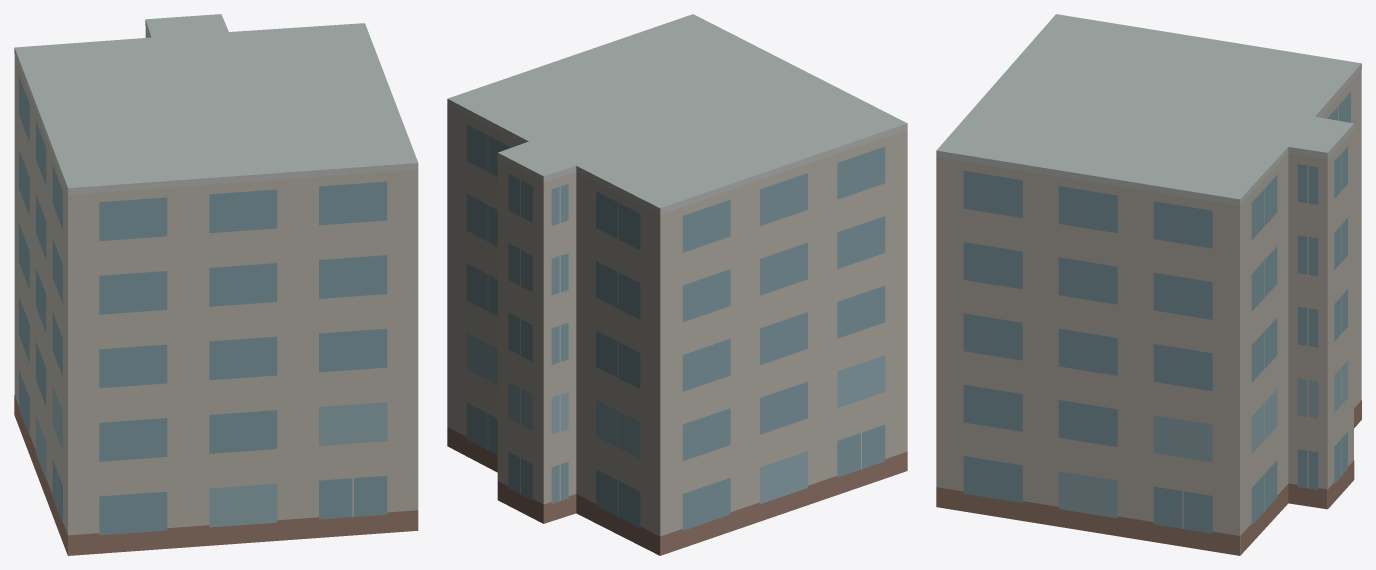
The model's file is survey-upis-32528417.glb.
The picture shows the model from 3 angles, left to right: view 1: azimuth 30°, elevation 25°; view 2: azimuth 150°, elevation 25°; view 3: azimuth 270°, elevation 25°; orthographic projection. The views are drawn at different scales.
Parts seen in each view (by area): view 1: survey-upis-32528417.tmp; view 2: survey-upis-32528417.tmp; view 3: survey-upis-32528417.tmp.
Boxes of the visible parts, <box> form: survey-upis-32528417.tmp: <box>14,14,418,555</box>; survey-upis-32528417.tmp: <box>447,14,907,555</box>; survey-upis-32528417.tmp: <box>936,14,1361,555</box>.
Bounding box in the file's own units: 15.18 × 13.6 × 14.72.
